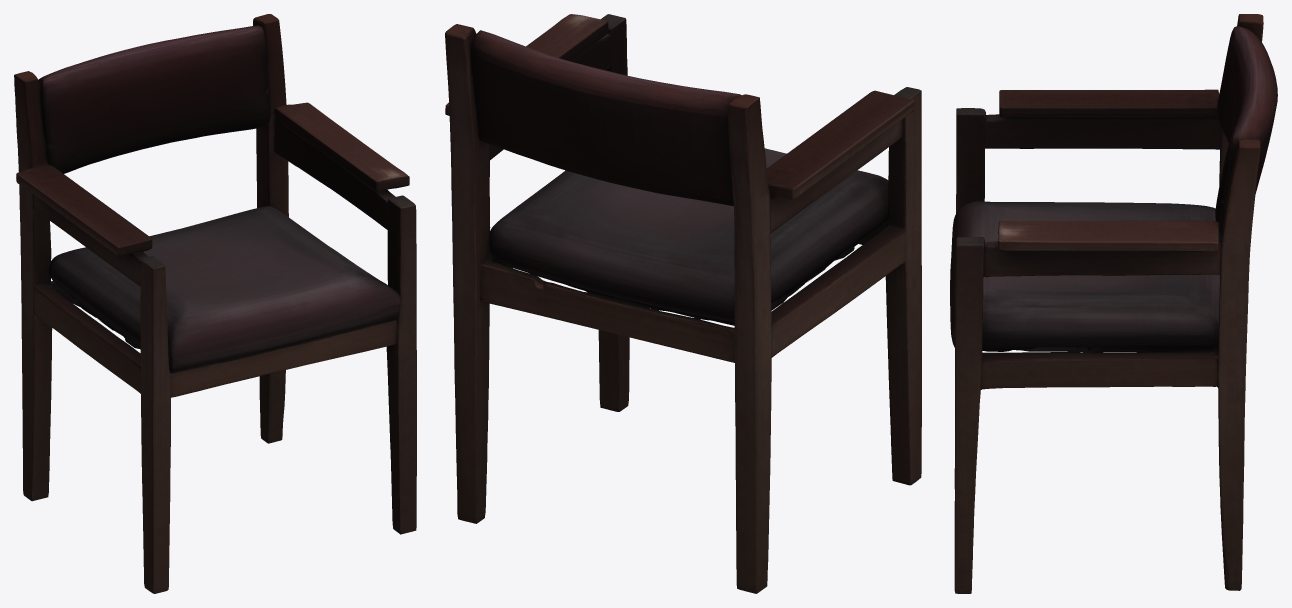
File: chair.glb
3 views of the same model, side by side, from view 1: azimuth 30°, elevation 25°; view 2: azimuth 150°, elevation 25°; view 3: azimuth 270°, elevation 25° (orthographic). The views are drawn at different scales.
Visible parts, largest first — view 1: world; view 2: world; view 3: world.
Part boxes in pixels (x1,y1,x2,y2): world: [14, 14, 416, 593]; world: [445, 14, 921, 593]; world: [950, 14, 1277, 593].
Size of the model in its own units: 0.7381 by 1 by 0.6674.
1 material, 1 textured.
